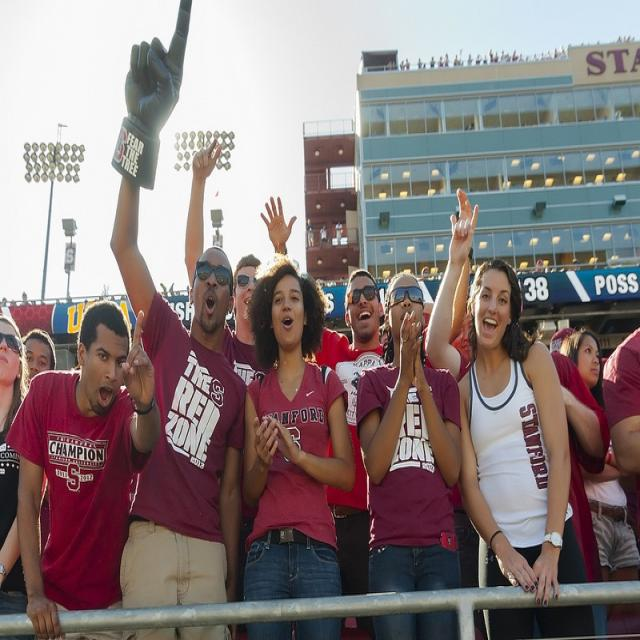body: (257, 184, 482, 632), (105, 0, 258, 639), (424, 201, 611, 639), (2, 294, 162, 638), (452, 257, 595, 640), (240, 255, 357, 639), (355, 271, 464, 640), (557, 326, 640, 617), (182, 136, 272, 390), (384, 29, 640, 86), (595, 312, 640, 626), (0, 283, 205, 319), (445, 304, 481, 388), (18, 321, 58, 393), (20, 326, 57, 388), (372, 312, 397, 366), (305, 218, 315, 251), (334, 219, 344, 246), (319, 223, 329, 243)
